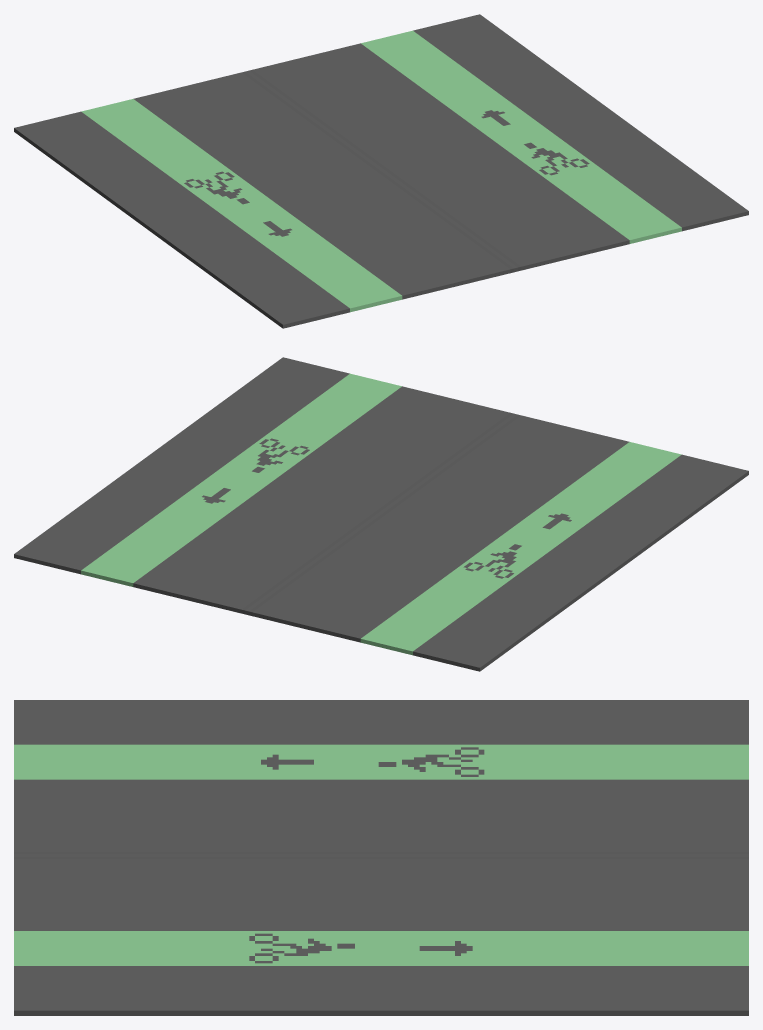
File: kfarr_bases_valencia.obj
3 views of the same model, one above another, from view 1: azimuth 30°, elevation 25°; view 2: azimuth 150°, elevation 25°; view 3: azimuth 270°, elevation 25° (orthographic). The views are drawn at different scales.
Bounding box in the file's own units: 125 × 1 × 125.
